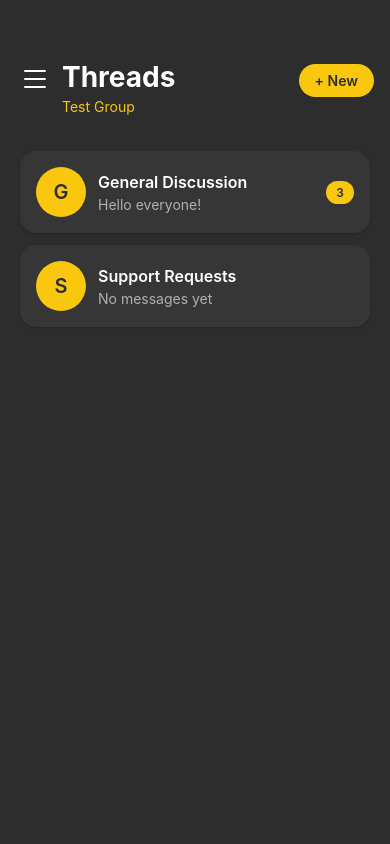
Test: ThreadsScreen › should open create modal when "+ New" is pressed
Click the text "+ New" at (336, 80), box [315,72,358,89]
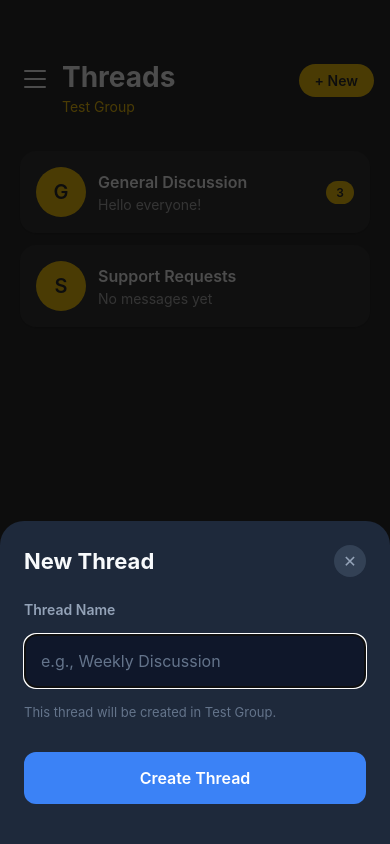
Check: the text "Create Thread" is shown, box [140,768,250,788]
